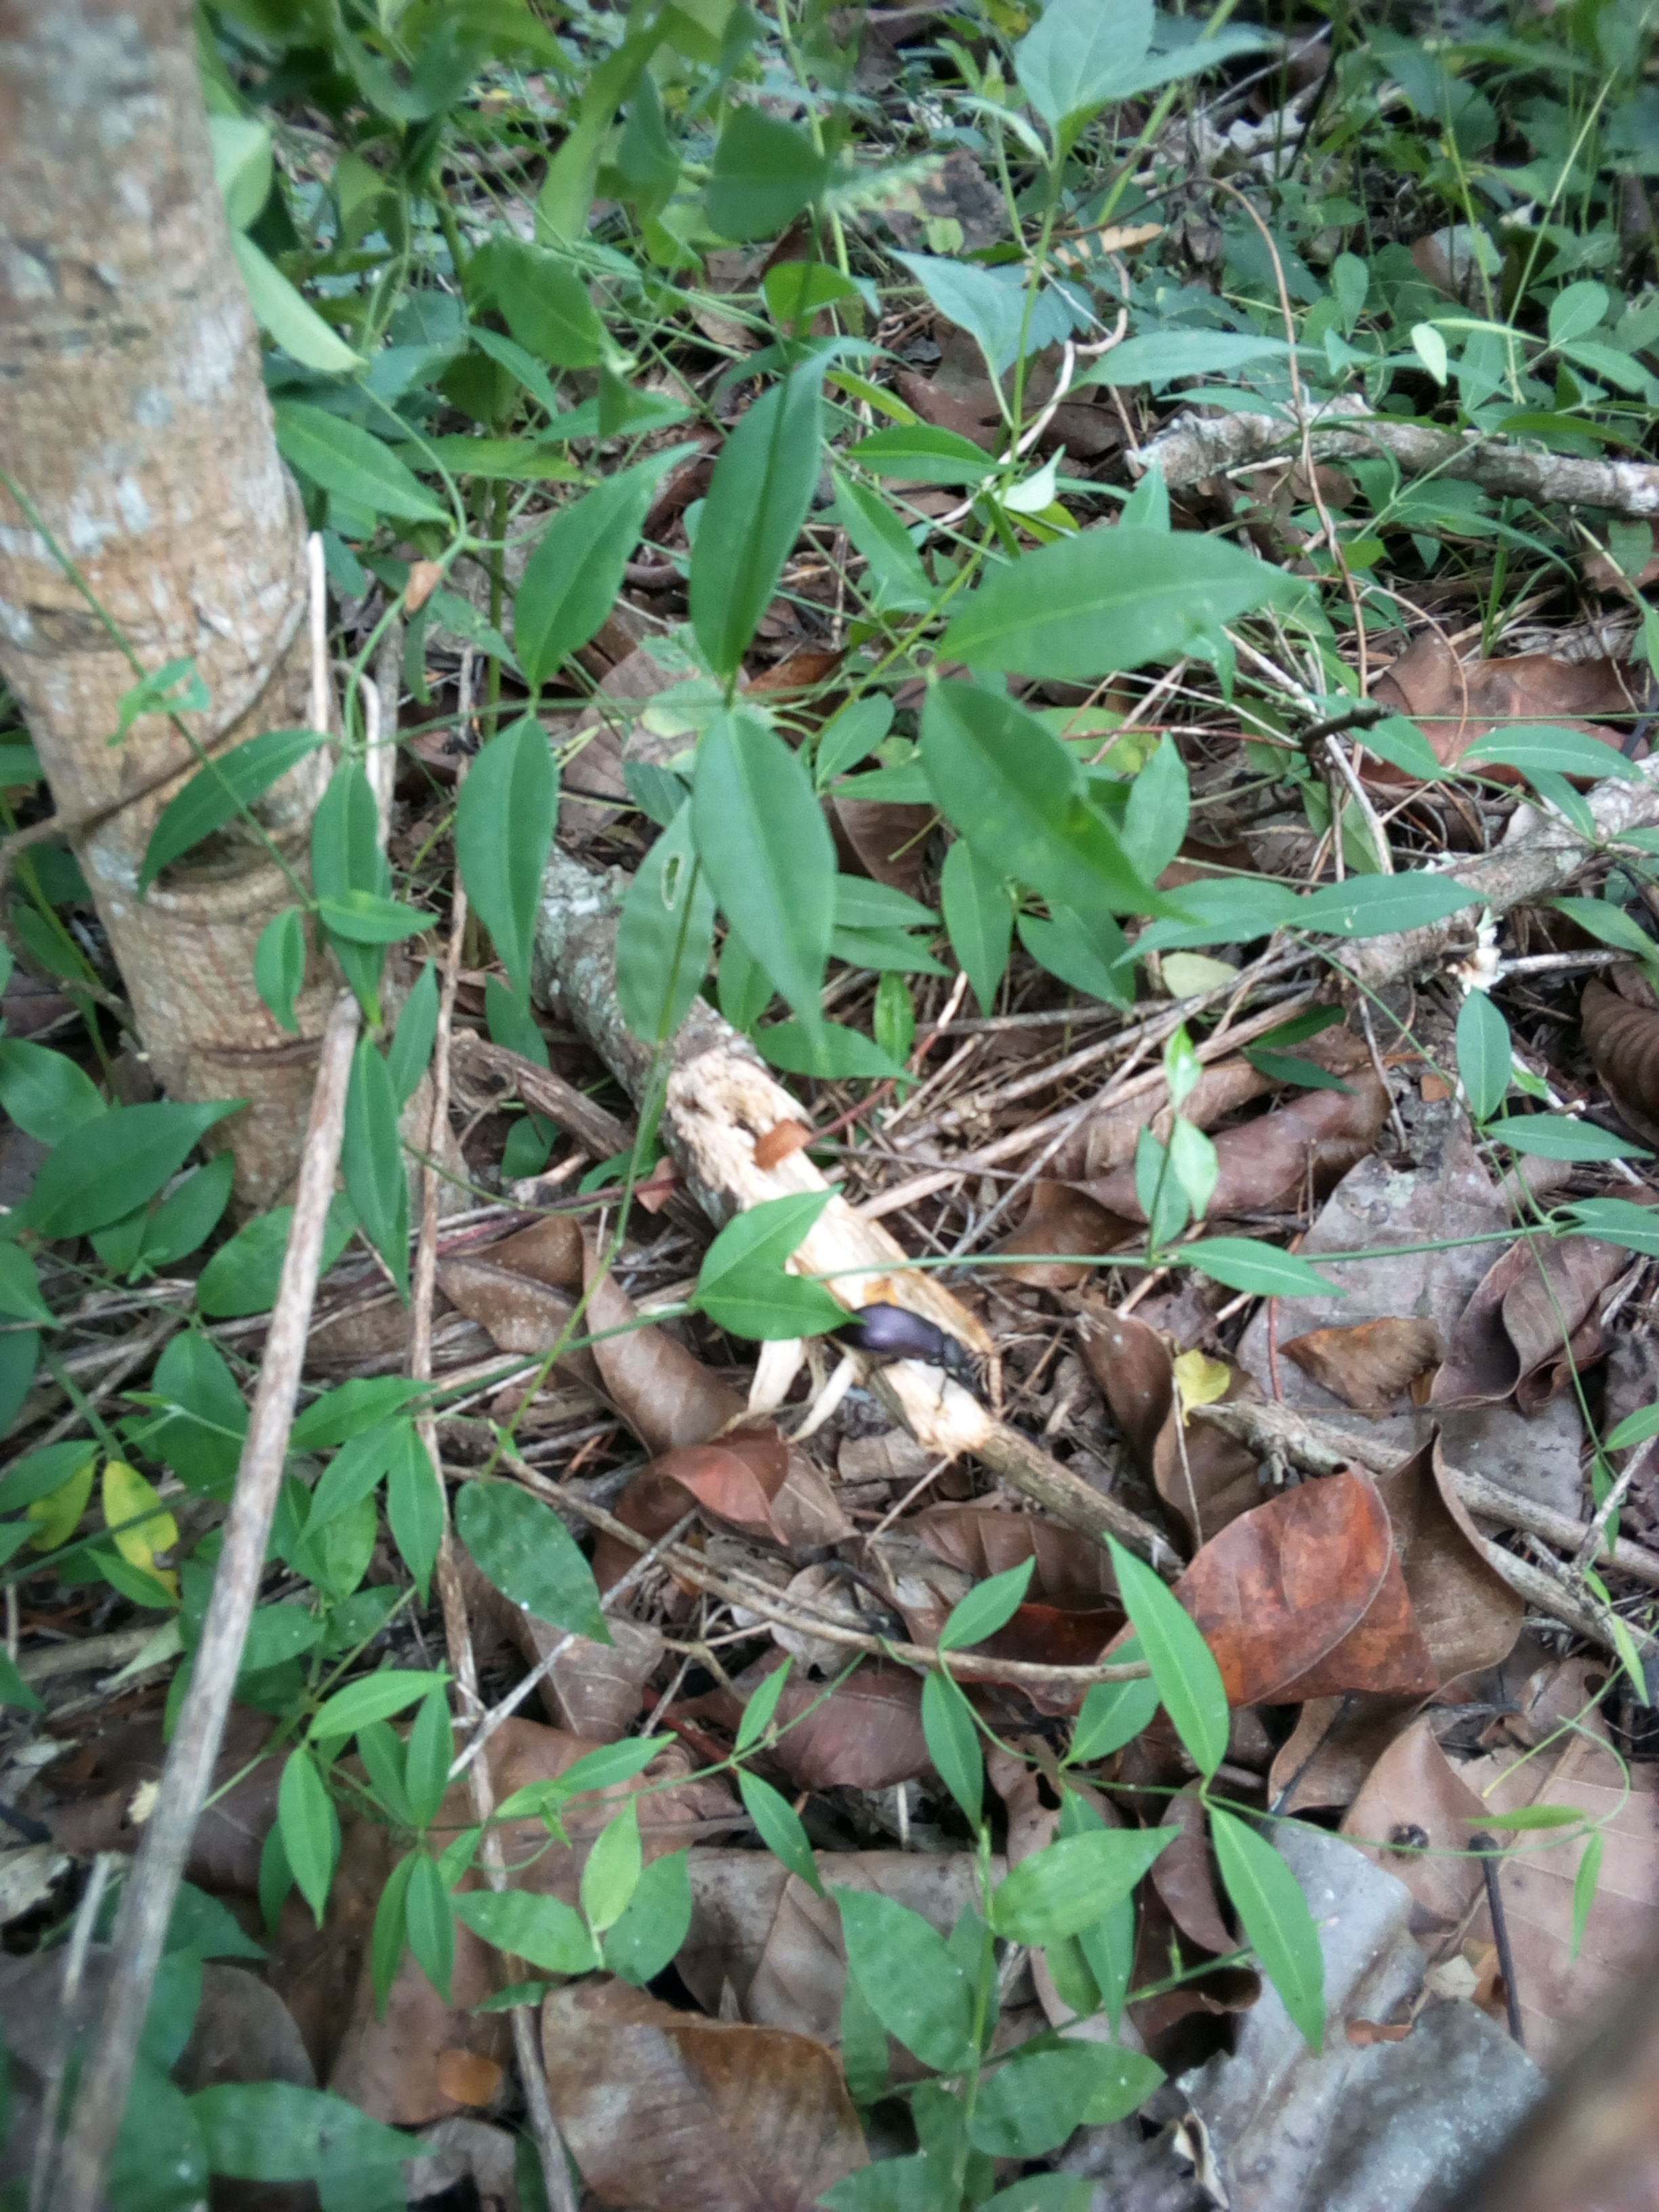Apate terebrans: (565, 827, 1056, 1536)
